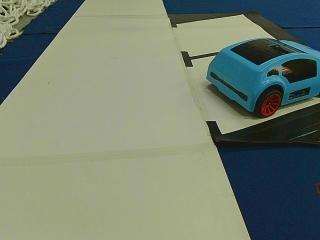car: (204, 37, 319, 117)
